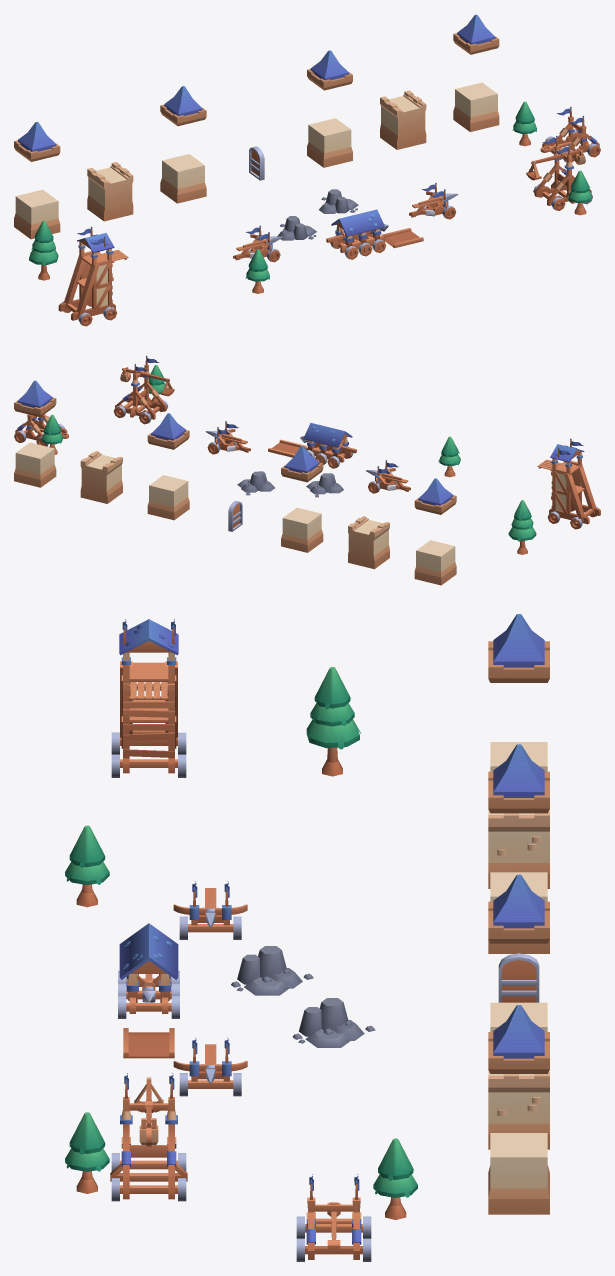
Rendered from paired-animation.glb.
The picture shows the model from 3 angles, top to bottom: view 1: azimuth 30°, elevation 25°; view 2: azimuth 150°, elevation 25°; view 3: azimuth 270°, elevation 25°; orthographic projection. The views are drawn at different scales.
Parts seen in each view (by area): view 1: SiegeTower, wall, wall.001, tower-square-base.002, tower-square-base.001, tower-square-base.003, tower-square-base, SiegeRam, siege-trebuchet, tower-square-top-roof, tower-square-top-roof.001, tower-square-top-roof.003 (+12 smaller); view 2: SiegeTower, wall.001, wall, tower-square-base, tower-square-base.002, tower-square-base.001, tower-square-base.003, siege-trebuchet, SiegeRam, tower-square-top-roof, tower-square-top-roof.001, tower-square-top-roof.002 (+12 smaller); view 3: SiegeTower, tower-square-base.003, siege-trebuchet, SiegeRam, wall, wall.001, tower-square-top-roof.001, tower-square-top-roof.002, tree-large, tower-square-top-roof, tower-square-top-roof.003, siege-catapult (+12 smaller).
Part boxes in pixels (x1,y1,x2,y2): SiegeTower: [58, 226, 128, 320]; wall: [87, 162, 133, 221]; wall.001: [380, 90, 426, 149]; tower-square-base.002: [307, 118, 352, 167]; tower-square-base.001: [160, 154, 206, 203]; tower-square-base.003: [453, 82, 499, 131]; tower-square-base: [14, 189, 60, 239]; SiegeRam: [331, 209, 384, 252]; siege-trebuchet: [534, 136, 591, 205]; tower-square-top-roof: [14, 121, 60, 161]; tower-square-top-roof.001: [160, 86, 206, 126]; tower-square-top-roof.003: [453, 14, 499, 54]; SiegeTower: [537, 438, 600, 524]; wall.001: [80, 451, 122, 503]; wall: [348, 516, 389, 569]; tower-square-base: [414, 540, 456, 585]; tower-square-base.002: [147, 475, 189, 520]; tower-square-base.001: [281, 507, 323, 552]; tower-square-base.003: [14, 442, 56, 487]; siege-trebuchet: [115, 355, 166, 419]; SiegeRam: [303, 423, 352, 462]; tower-square-top-roof: [414, 478, 456, 514]; tower-square-top-roof.001: [281, 445, 323, 482]; tower-square-top-roof.002: [147, 413, 189, 449]; SiegeTower: [119, 619, 178, 773]; tower-square-base.003: [488, 1133, 549, 1214]; siege-trebuchet: [110, 1073, 187, 1199]; SiegeRam: [119, 923, 178, 1013]; wall: [488, 809, 549, 888]; wall.001: [488, 1070, 549, 1149]; tower-square-top-roof.001: [488, 744, 549, 813]; tower-square-top-roof.002: [488, 874, 549, 943]; tree-large: [306, 667, 360, 776]; tower-square-top-roof: [488, 614, 549, 682]; tower-square-top-roof.003: [488, 1005, 549, 1073]; siege-catapult: [305, 1174, 362, 1259].
Size of what is drawn, in the model's own units: 19.72 by 3.65 by 7.86.
Materials: 24 (24 with a texture image).
